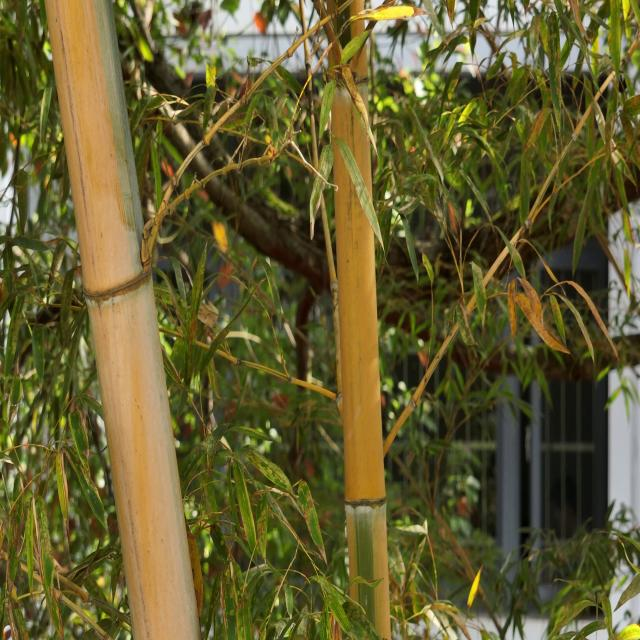Bamboo-shoots: (46, 0, 202, 640)
